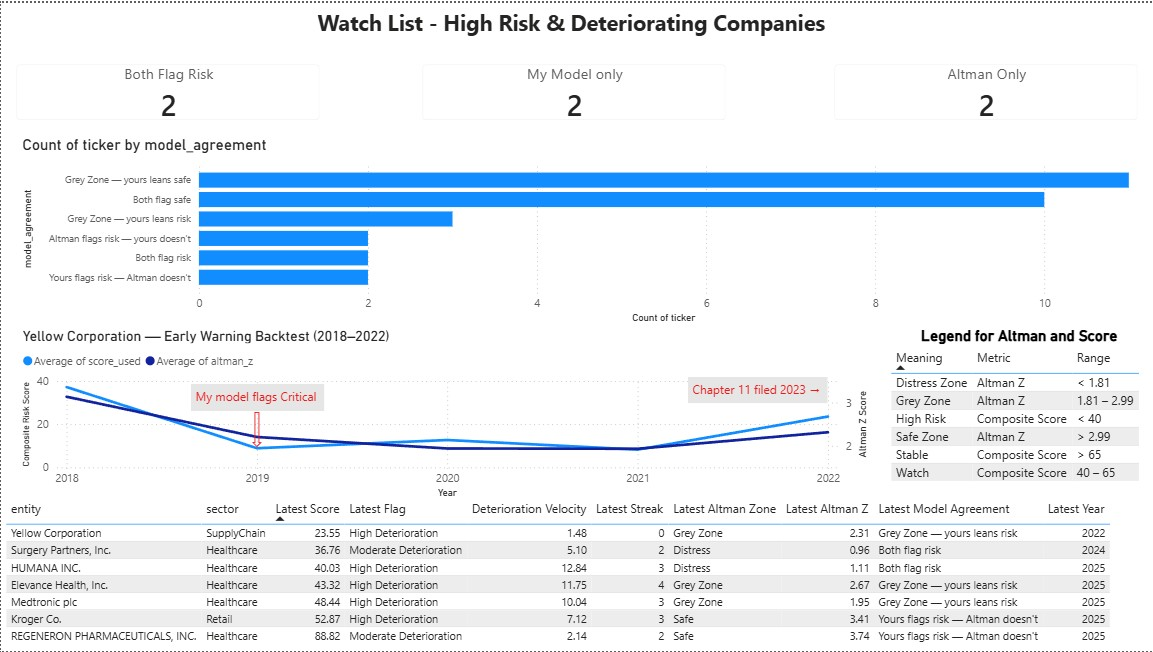

What the dashboard file says about the page in this screenshot:
{"tool":"powerbi","page":{"name":"Watch List & Validation","canvas":[1280,720],"ordinal":2},"visuals":[{"type":"textbox","box":[346.2,0,586.2,43.8],"z":0},{"type":"tableEx","fields":{"Values":["public company_master.entity","public company_master.sector","_Measures.Latest Score","_Measures.Latest Flag","_Measures.Latest Velocity","_Measures.Latest Streak","_Measures.Latest Altman Zone","_Measures.Latest Altman Z","_Measures.Latest Model Agreement","_Measures.Latest Available Year"]},"box":[0,546.2,1265,173.8],"z":1000},{"type":"lineChart","title":"Yellow Corporation — Early Warning Backtest (2018–2022)","fields":{"Category":["public altman_validation.fiscal_year"],"Y":["Avg(public altman_validation.score_used)"],"Y2":["Avg(public altman_validation.altman_z)"]},"box":[19,360,949,195],"z":2000},{"type":"tableEx","title":"Legend for Altman and Score","fields":{"Values":["Risk_Index.Meaning","Risk_Index.Metric","Risk_Index.Range"]},"box":[983.8,360,296.2,186.2],"z":3000},{"type":"textbox","box":[211.2,423.8,147.5,30],"z":4000},{"type":"shape","box":[279,454,11,39],"z":5000},{"type":"textbox","box":[763.8,415,155,28.8],"z":6000},{"type":"clusteredBarChart","fields":{"Category":["public company_latest.model_agreement"],"Y":["CountNonNull(public company_latest.ticker)"]},"box":[18.8,147.5,1246.2,212.5],"z":7000},{"type":"cardVisual","fields":{"Data":["_Measures.Your Model Only"]},"box":[451.2,51.2,371.2,96.2],"z":8000},{"type":"cardVisual","fields":{"Data":["_Measures.Both Flag Risk"]},"box":[0,51.2,371.2,96.2],"z":9000},{"type":"cardVisual","fields":{"Data":["_Measures.Altman Only"]},"box":[908.8,51.2,371.2,96.2],"z":10000}]}

Visuals, with their boxes in screenshot pixels (x1, y1, x2, y2), scaled from the page's 1280x720 canvas onto the 1153x652 screenshot:
textbox: 312, 0, 840, 40
tableEx - public company_master.entity x public company_master.sector: 0, 495, 1139, 651
"Yellow Corporation — Early Warning Backtest (2018–2022)" lineChart: 17, 326, 872, 503
"Legend for Altman and Score" tableEx: 886, 326, 1152, 495
textbox: 190, 384, 323, 411
shape: 251, 411, 261, 446
textbox: 688, 376, 828, 402
clusteredBarChart - public company_latest.model_agreement x CountNonNull(public company_latest.ticker): 17, 134, 1139, 326
cardVisual - _Measures.Your Model Only: 406, 46, 741, 133
cardVisual - _Measures.Both Flag Risk: 0, 46, 334, 133
cardVisual - _Measures.Altman Only: 819, 46, 1152, 133
